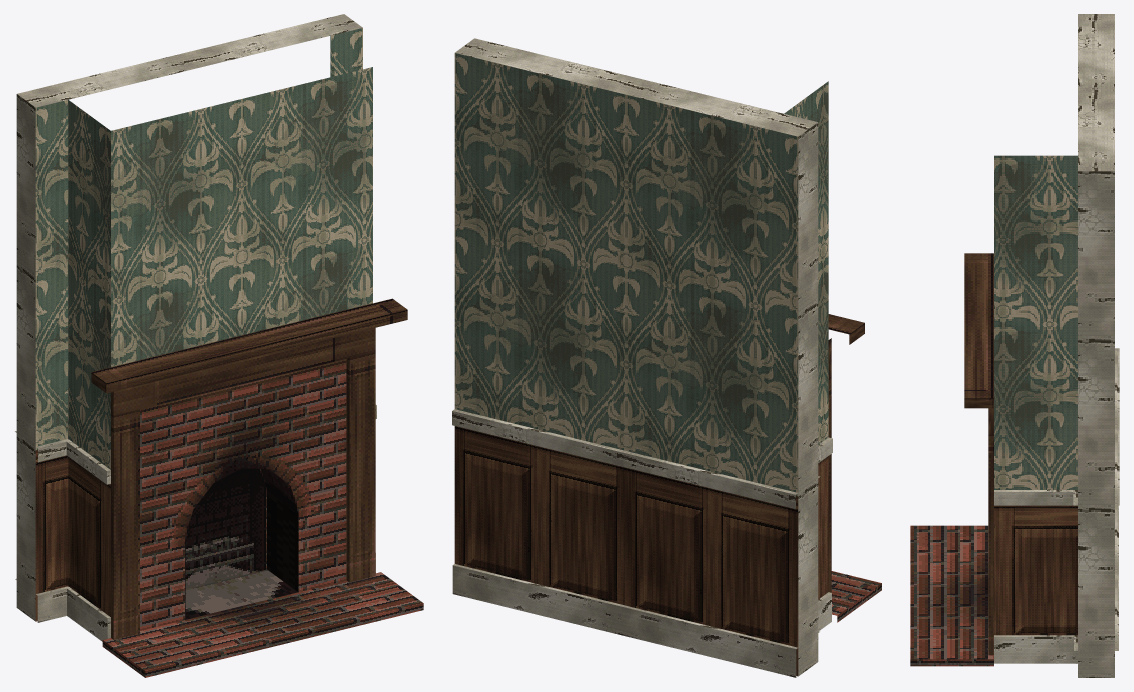
The model's file is house_fireplace.glb.
The picture shows the model from 3 angles, left to right: view 1: azimuth 30°, elevation 25°; view 2: azimuth 150°, elevation 25°; view 3: azimuth 270°, elevation 25°; orthographic projection. The views are drawn at different scales.
Visible parts, largest first — view 1: house_fireplace; view 2: house_fireplace; view 3: house_fireplace.
Boxes of the visible parts, x1,y1,x2,y2 form: house_fireplace: (15, 14, 423, 677); house_fireplace: (452, 38, 881, 677); house_fireplace: (910, 14, 1119, 677).
Size of the model in its own units: 2 by 3 by 1.12.
4 materials, 4 textured.
